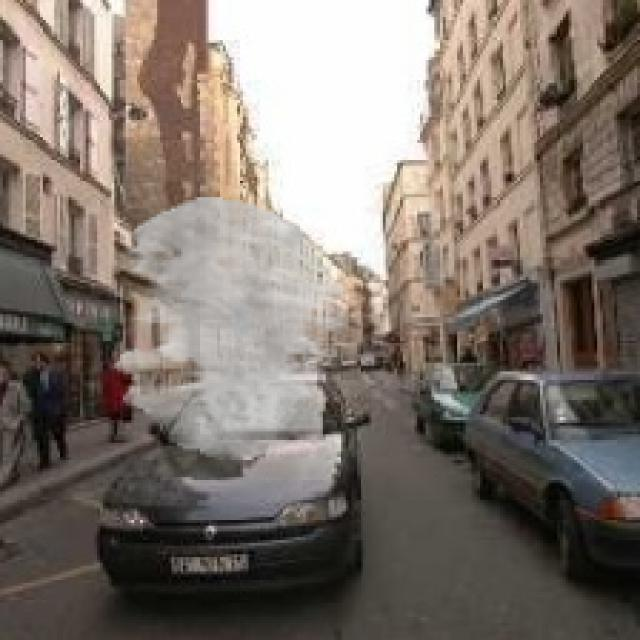Smoke: (114, 197, 349, 460)
